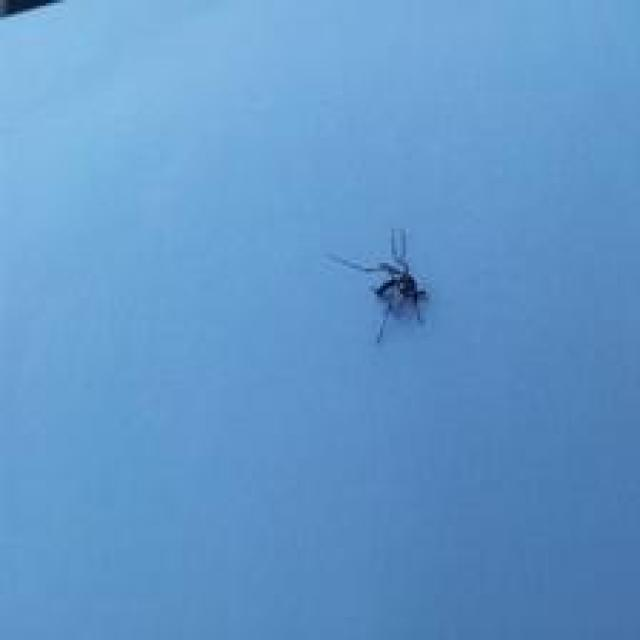Aedes albopictus: (327, 226, 433, 346)
